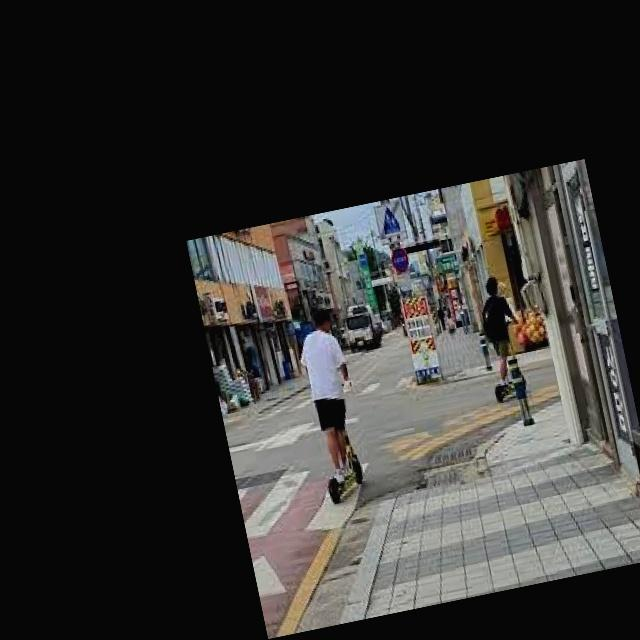bare_head: (306, 304, 341, 335), (480, 274, 507, 297)
human: (292, 303, 353, 475), (474, 270, 512, 381)
kickboard: (316, 453, 374, 509), (489, 374, 545, 403)
